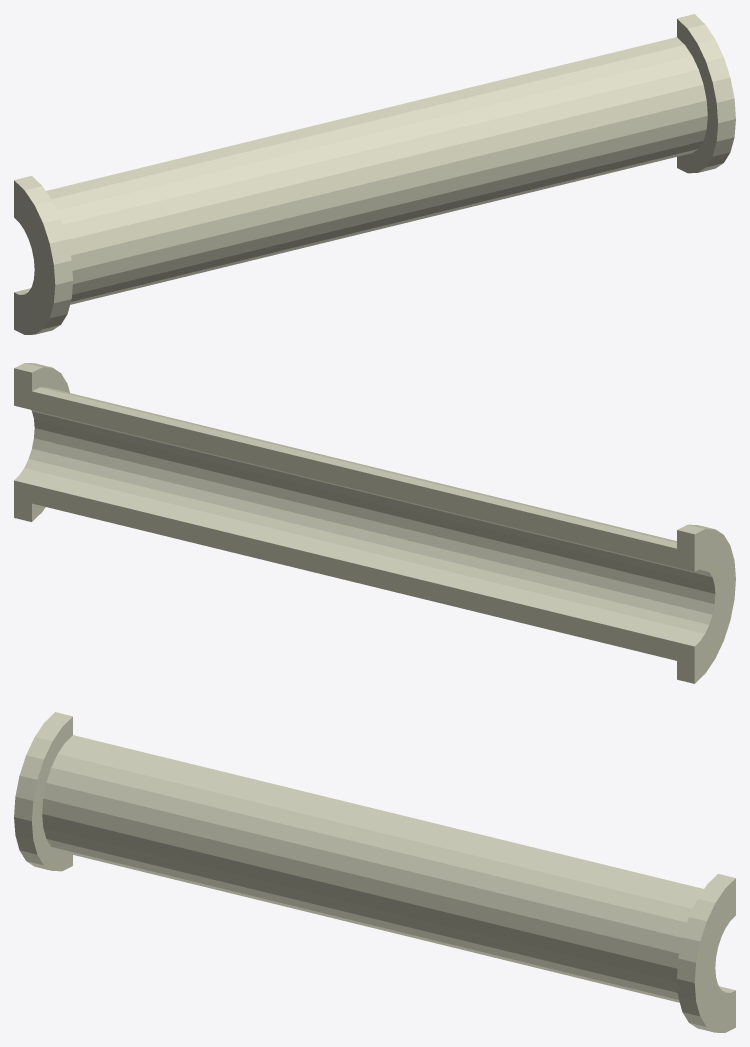
Rendered from section_109.obj.
3 views of the same model, one above another, from view 1: azimuth 30°, elevation 25°; view 2: azimuth 150°, elevation 25°; view 3: azimuth 330°, elevation 25° (orthographic).
Bounding box in the file's own units: 38.1 × 8 × 4.
